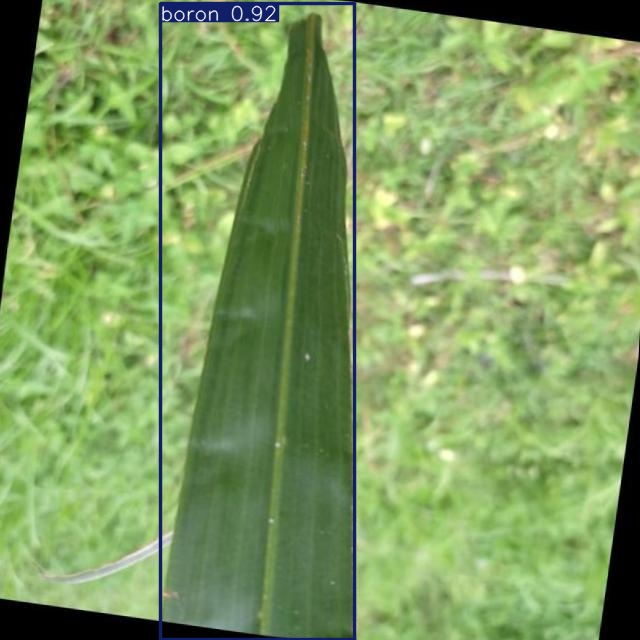nitrogen: (160, 4, 354, 639)
